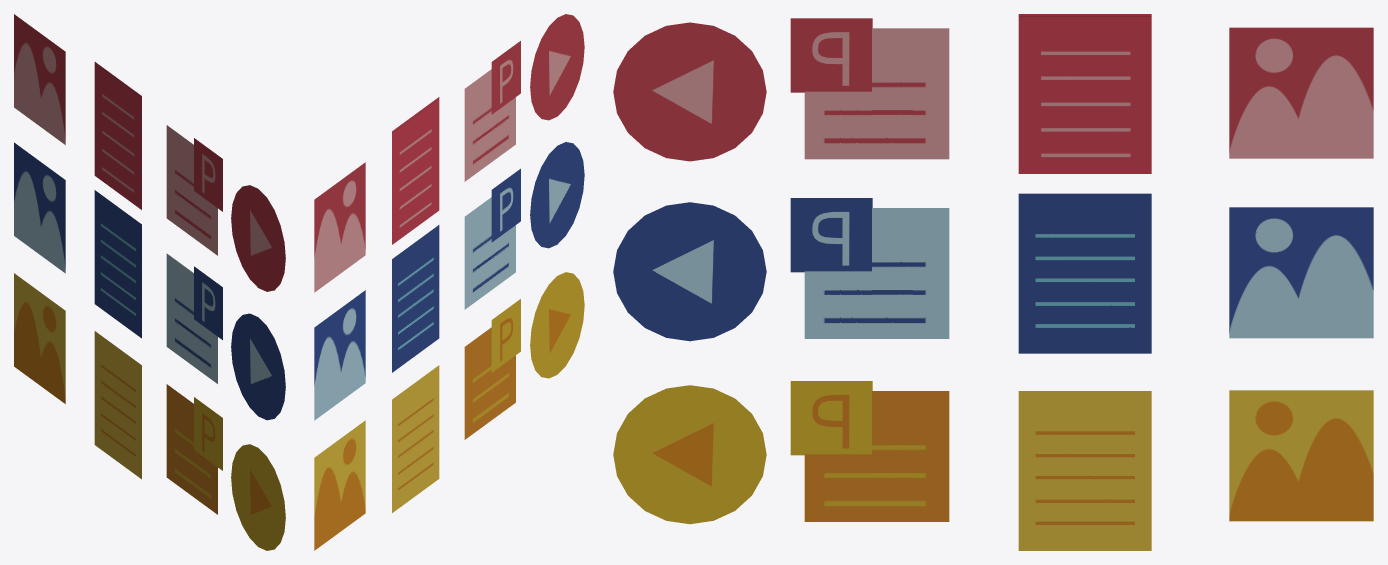
File: 0505dream2Dicons.fbx
3 views of the same model, side by side, from view 1: azimuth 30°, elevation 25°; view 2: azimuth 150°, elevation 25°; view 3: azimuth 270°, elevation 25° (orthographic). The views are drawn at different scales.
Visible parts, largest first — view 1: txt_plane, txt_plane.001, txt_plane.002, jpg_plane.001, jpg_plane, jpg_plane.002, mp4_plane.002, mp4_plane, mp4_plane.001, pCube40, pCube40.001, pCube40.002 (+3 smaller); view 2: txt_plane.001, txt_plane.002, txt_plane, jpg_plane, jpg_plane.001, jpg_plane.002, mp4_plane, mp4_plane.001, mp4_plane.002, pCube40, pCube40.001, pCube40.002 (+3 smaller); view 3: txt_plane.001, txt_plane, txt_plane.002, jpg_plane, jpg_plane.001, jpg_plane.002, mp4_plane, mp4_plane.002, mp4_plane.001, pCube40, pCube40.001, pCube40.002 (+3 smaller).
Part boxes in pixels (left/top/right/bottom): txt_plane: left=94, top=62, right=141, bottom=209; txt_plane.001: left=94, top=190, right=141, bottom=338; txt_plane.002: left=94, top=331, right=141, bottom=479; jpg_plane.001: left=14, top=142, right=65, bottom=273; jpg_plane: left=14, top=14, right=65, bottom=144; jpg_plane.002: left=14, top=273, right=65, bottom=403; mp4_plane.002: left=231, top=444, right=285, bottom=550; mp4_plane: left=231, top=185, right=285, bottom=291; mp4_plane.001: left=231, top=313, right=285, bottom=420; pCube40: left=166, top=125, right=217, bottom=255; pCube40.001: left=166, top=253, right=217, bottom=383; pCube40.002: left=166, top=384, right=217, bottom=514; txt_plane.001: left=392, top=225, right=439, bottom=372; txt_plane.002: left=392, top=365, right=439, bottom=512; txt_plane: left=392, top=97, right=439, bottom=244; jpg_plane: left=314, top=162, right=365, bottom=292; jpg_plane.001: left=314, top=290, right=365, bottom=420; jpg_plane.002: left=314, top=420, right=365, bottom=550; mp4_plane: left=530, top=14, right=584, bottom=120; mp4_plane.001: left=530, top=142, right=584, bottom=248; mp4_plane.002: left=530, top=272, right=584, bottom=378; pCube40: left=464, top=69, right=515, bottom=181; pCube40.001: left=464, top=197, right=515, bottom=309; pCube40.002: left=464, top=327, right=515, bottom=439; txt_plane.001: left=1018, top=193, right=1151, bottom=353; txt_plane: left=1018, top=14, right=1151, bottom=173; txt_plane.002: left=1018, top=391, right=1151, bottom=550; jpg_plane: left=1229, top=27, right=1373, bottom=158; jpg_plane.001: left=1229, top=207, right=1373, bottom=338; jpg_plane.002: left=1229, top=390, right=1373, bottom=521; mp4_plane: left=613, top=22, right=766, bottom=161; mp4_plane.002: left=613, top=385, right=766, bottom=524; mp4_plane.001: left=613, top=202, right=766, bottom=341; pCube40: left=804, top=28, right=949, bottom=159; pCube40.001: left=804, top=208, right=949, bottom=338; pCube40.002: left=804, top=391, right=949, bottom=521.
Bounding box in the file's own units: 0.3508 × 107 × 137.
